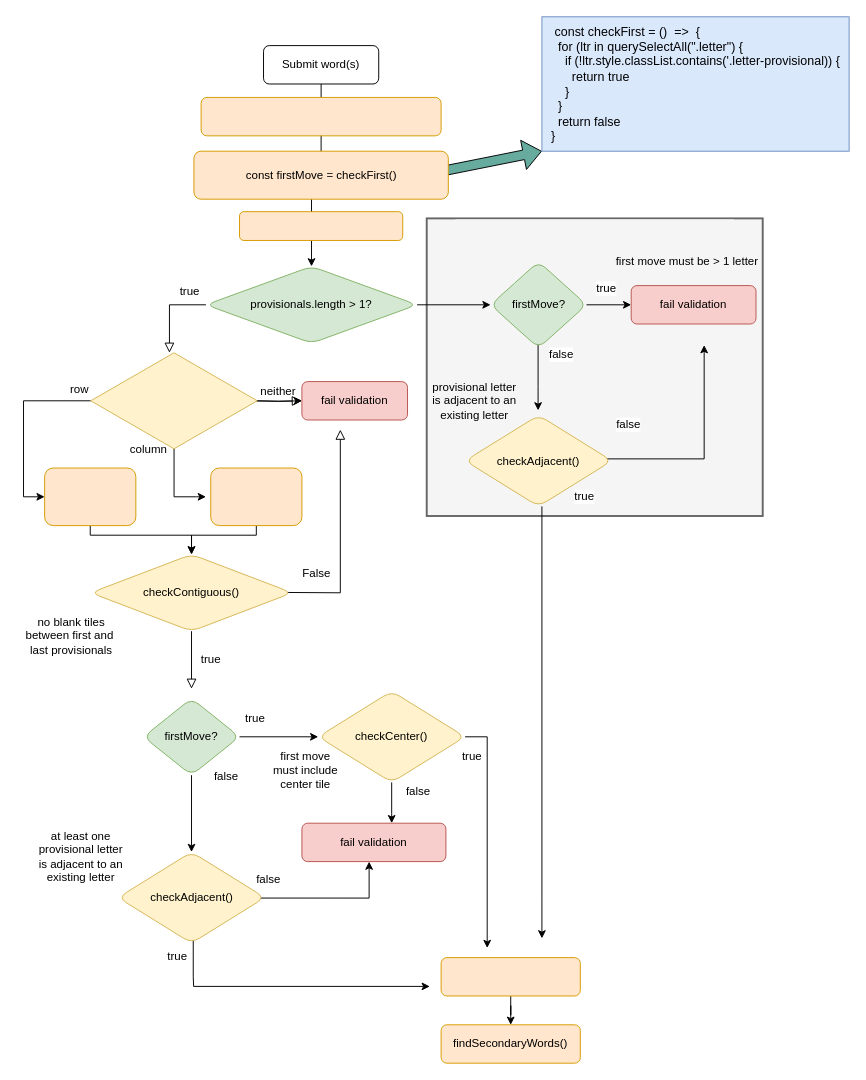
Image size: 866x1080. Some labels were removed from this diagram. The box of each missing label's shape, as (x1, y1, x2, y2) in pixels:
1 provisional letter: (455, 219, 733, 248)
checkOrientation(): (90, 352, 257, 449)
findPrimaryWord(): (440, 957, 580, 996)
orientation = "hor": (44, 467, 136, 526)
orientation = "none": (239, 211, 403, 240)
orientation = "ver": (210, 467, 302, 526)
provisionals = querySelectAll('.letter-provisional'): (200, 96, 441, 136)
